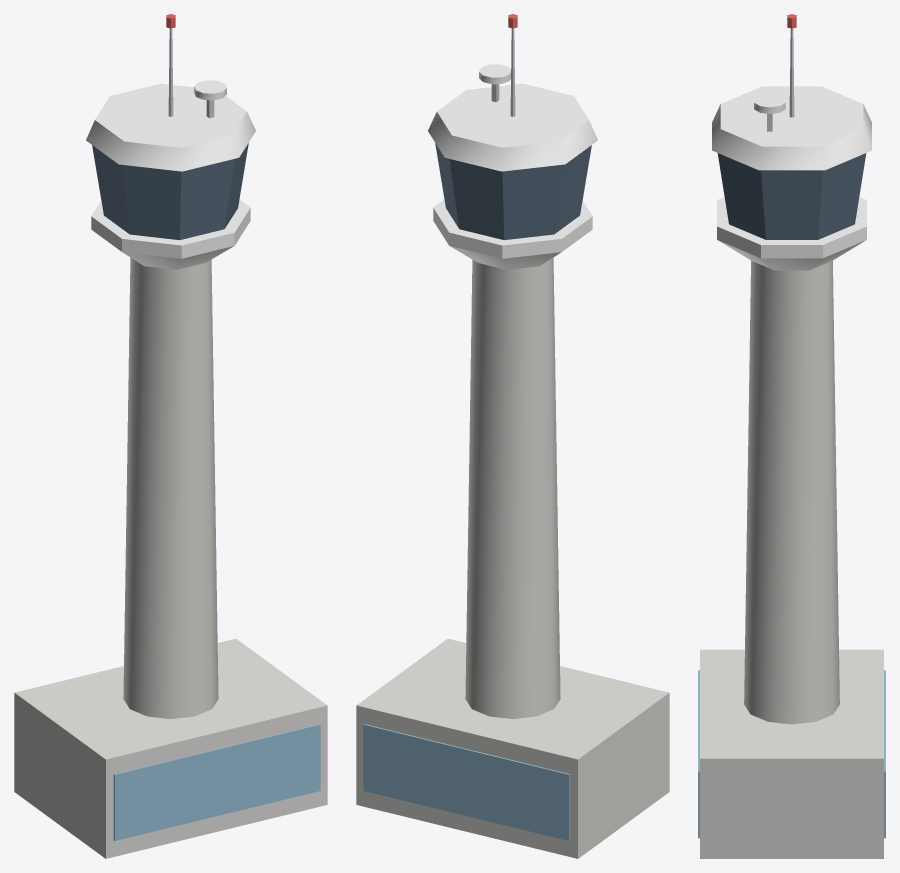
File: tour_controle-CFOqCYfl.glb
3 renders of one model, left to right at view 1: azimuth 30°, elevation 25°; view 2: azimuth 150°, elevation 25°; view 3: azimuth 270°, elevation 25°, orthographic.
Parts seen in each view (by area): view 1: body; view 2: body; view 3: body.
Boxes of the visible parts, x1,y1,x2,y2 form: body: [14, 14, 327, 858]; body: [356, 14, 669, 858]; body: [698, 14, 885, 858].
Bounding box in the file's own units: 14 × 47.2 × 10.2.
